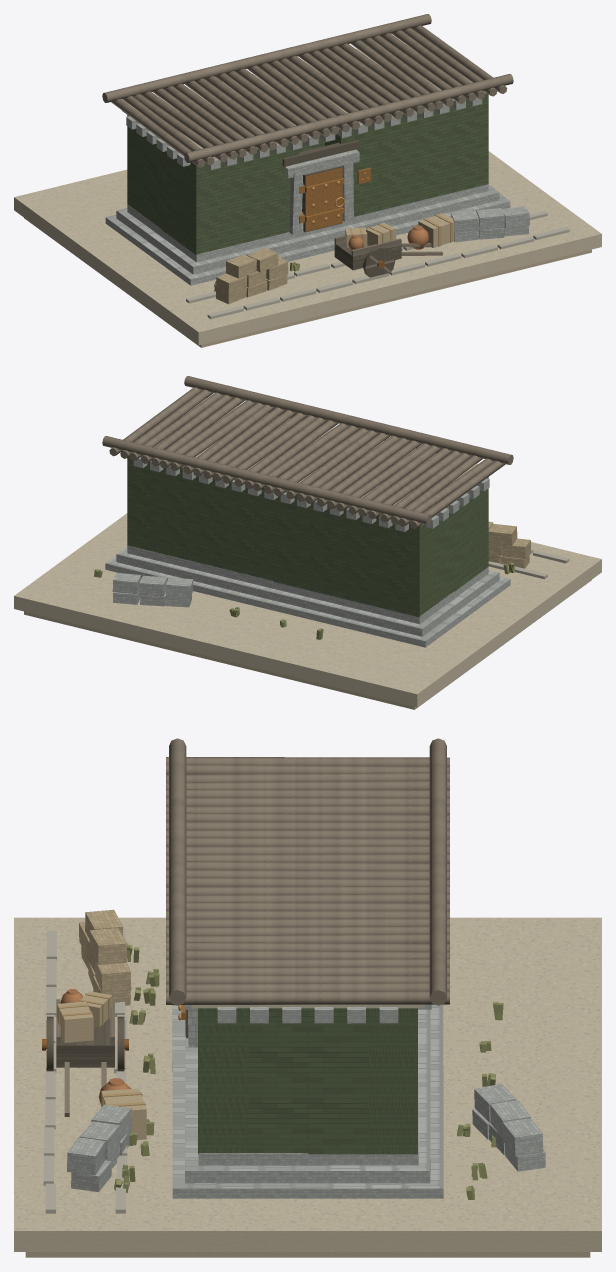
Rendered from lin-4-built.glb.
3 views of the same model, one above another, from view 1: azimuth 30°, elevation 25°; view 2: azimuth 150°, elevation 25°; view 3: azimuth 270°, elevation 25° (orthographic). The views are drawn at different scales.
Bounding box in the file's own units: 29 × 10.43 × 23.
Materials: 31 (22 with a texture image).
